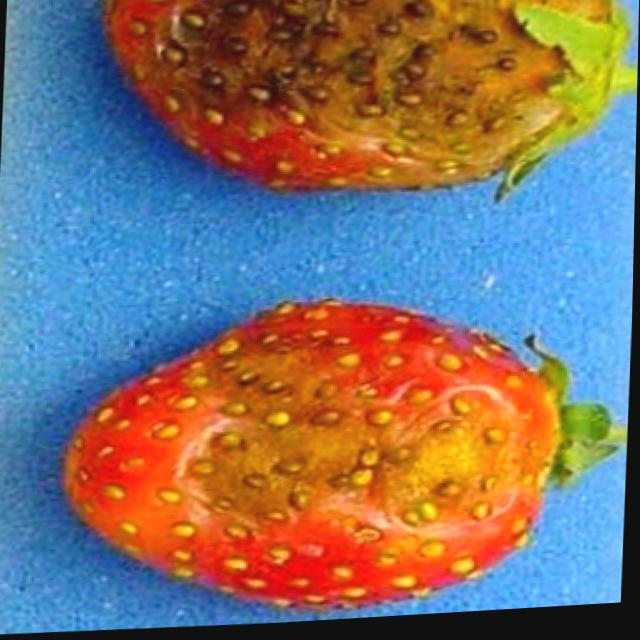Anthracnose Fruit Rot: (162, 325, 563, 576), (114, 0, 612, 197)
